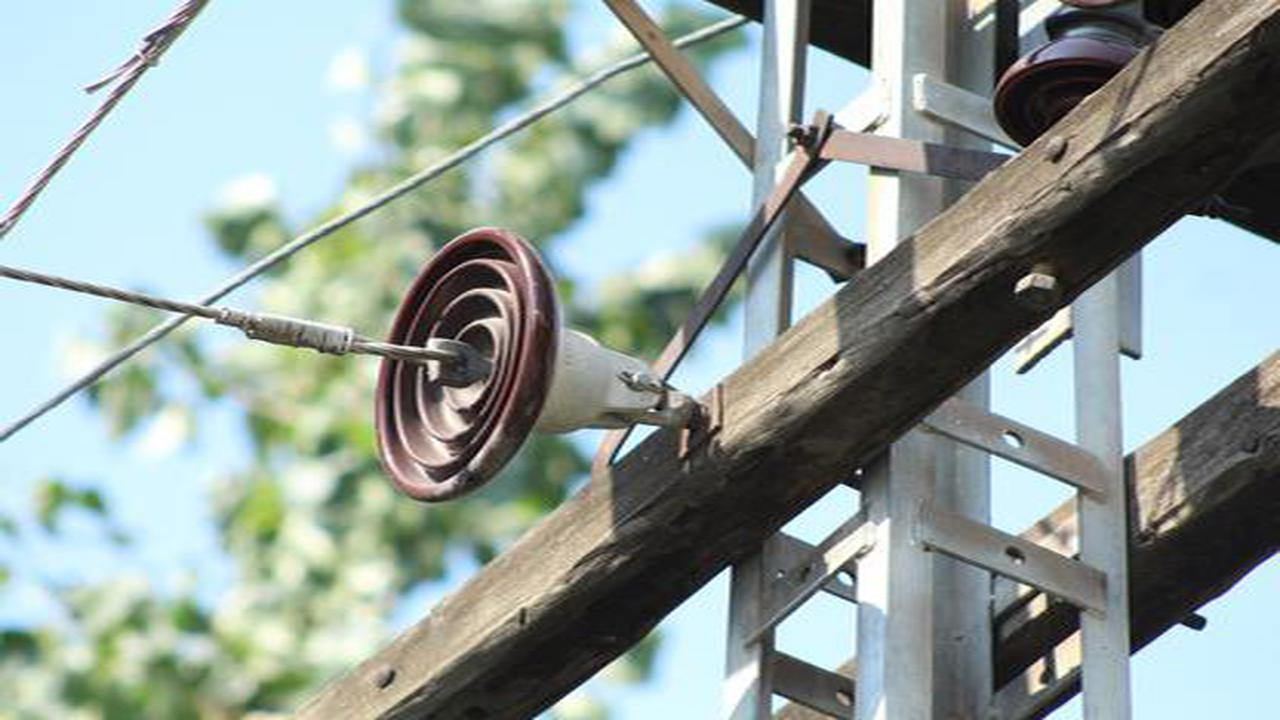insulator_disc: (367, 220, 657, 502)
